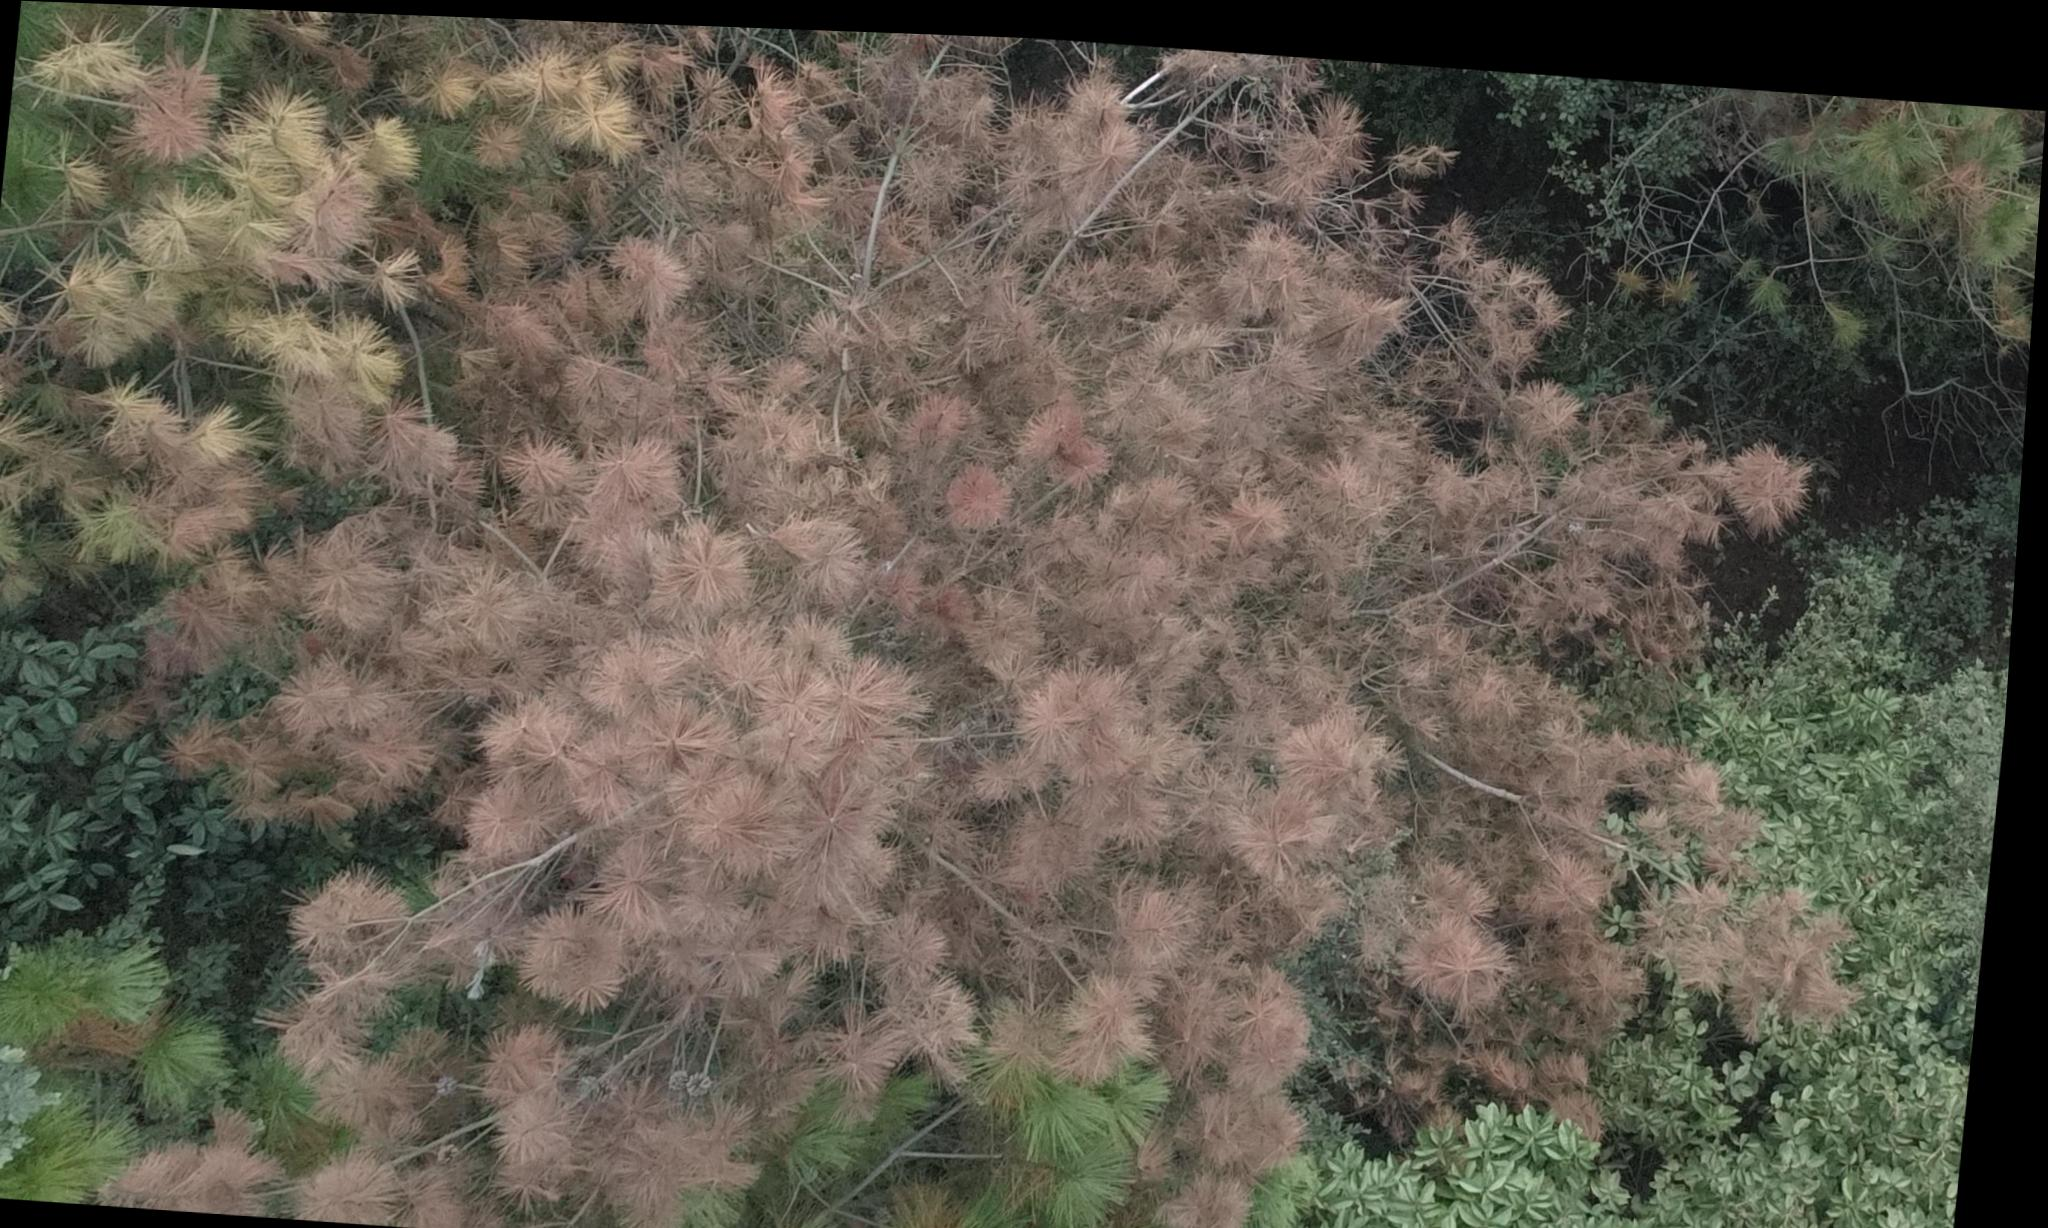heavy: (89, 7, 1927, 1228)
